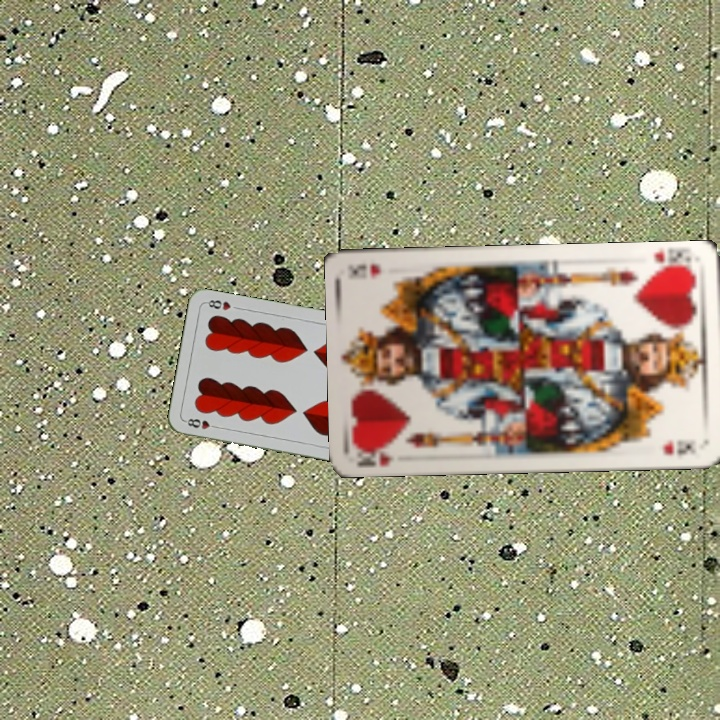H8: (181, 414, 222, 432)
HK: (354, 441, 398, 469), (649, 248, 694, 275)
